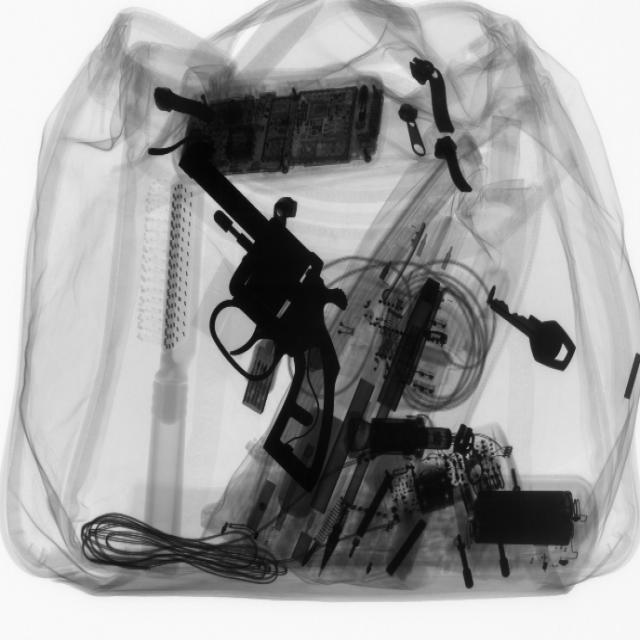GUN: (185, 113, 349, 502)
